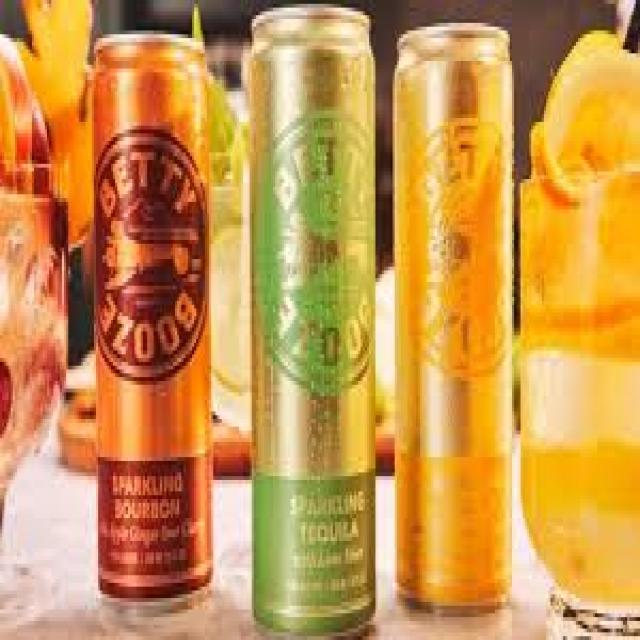Cans: (239, 4, 386, 640), (384, 15, 521, 610), (85, 23, 222, 602)
